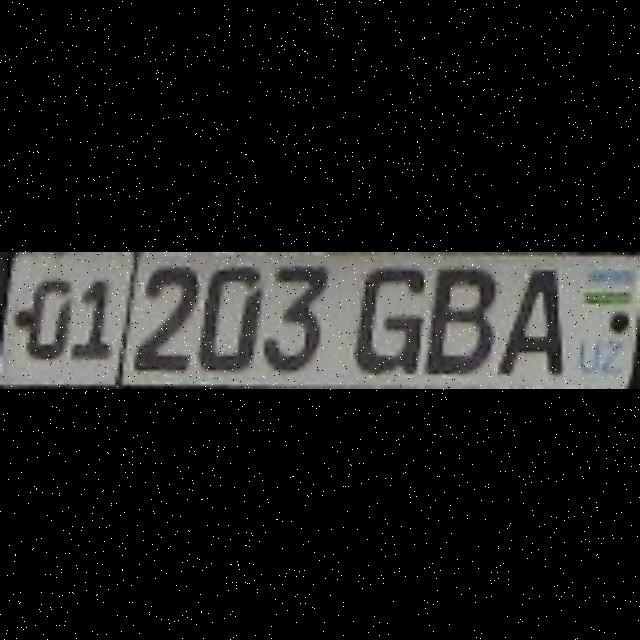0: (194, 262, 256, 366), (23, 273, 71, 355)
1: (66, 277, 108, 355)
2: (126, 262, 194, 370)
3: (256, 262, 320, 366)
A: (496, 266, 558, 370)
B: (424, 262, 492, 370)
G: (350, 262, 420, 370)
